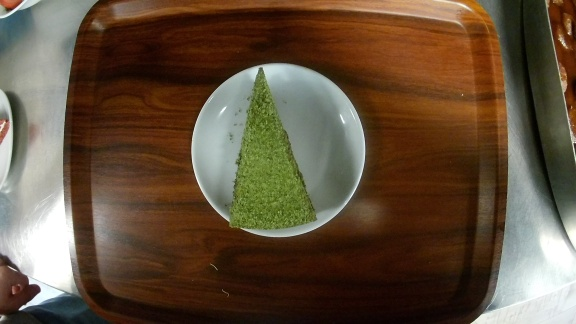fistiklipasta: (192, 62, 366, 237)
